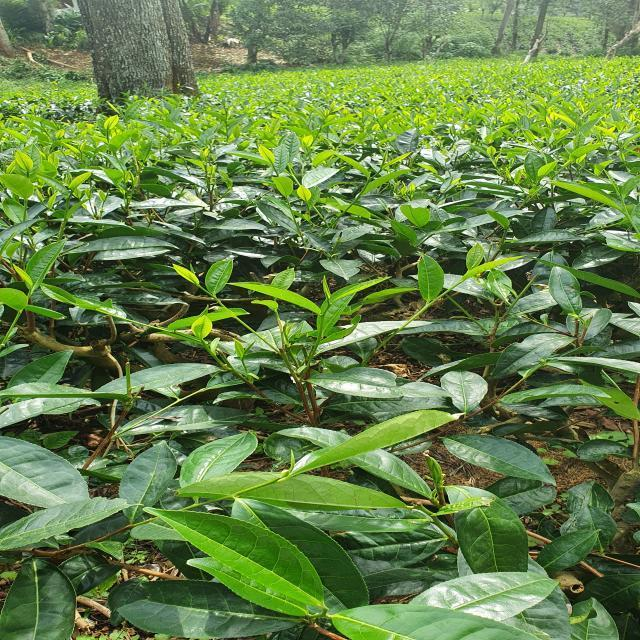Stem: (454, 277, 464, 287), (212, 295, 221, 303), (624, 212, 632, 221), (320, 316, 324, 327), (364, 181, 370, 188), (66, 200, 70, 208), (276, 172, 279, 177)
